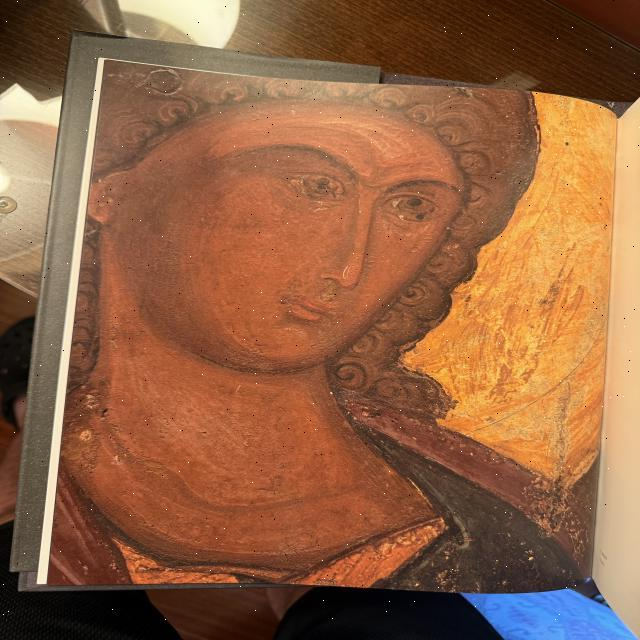saint: (57, 89, 545, 581)
